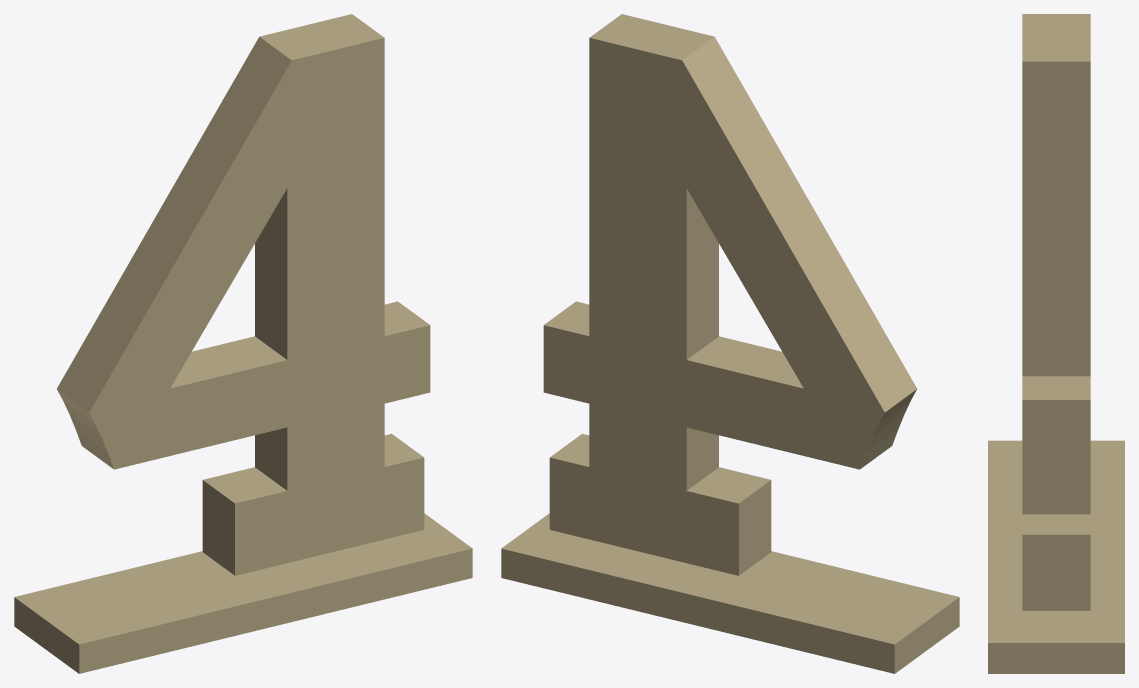
Rendered from num_4.glb.
3 views of the same model, side by side, from view 1: azimuth 30°, elevation 25°; view 2: azimuth 150°, elevation 25°; view 3: azimuth 270°, elevation 25° (orthographic). The views are drawn at different scales.
Visible parts, largest first — view 1: num_4; view 2: num_4; view 3: num_4.
Boxes of the visible parts, <box> form: num_4: <box>14,14,472,673</box>; num_4: <box>501,14,959,673</box>; num_4: <box>988,14,1124,673</box>.
Bounding box in the file's own units: 1.4 × 1.86 × 0.4.
